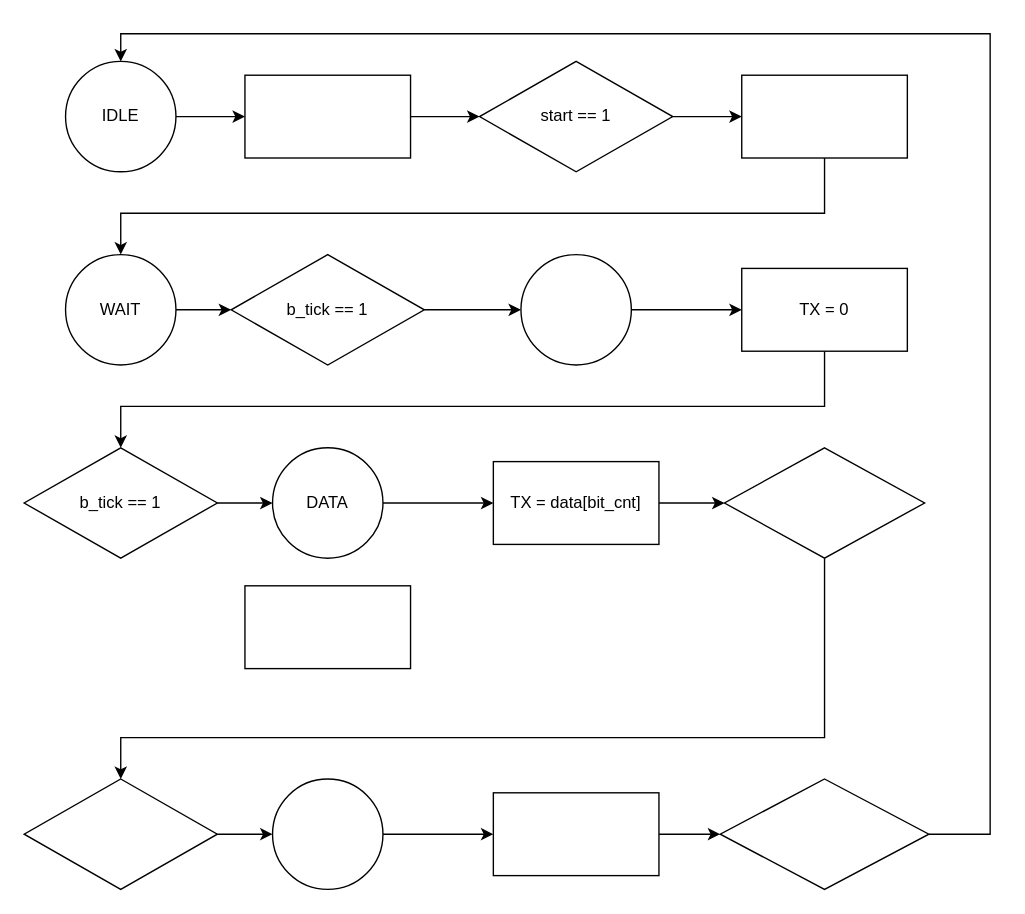
Some shapes in this 1025 by 914 pixel diagram are drawn without their labels. The box of each missing label's shape, as (x1, y1, x2, y2) in pixels:
bit_cnt ++: (244, 584, 411, 669)
data = tx_data: (740, 74, 907, 158)
START: (520, 253, 631, 365)
TX = 1: (244, 74, 411, 158)
